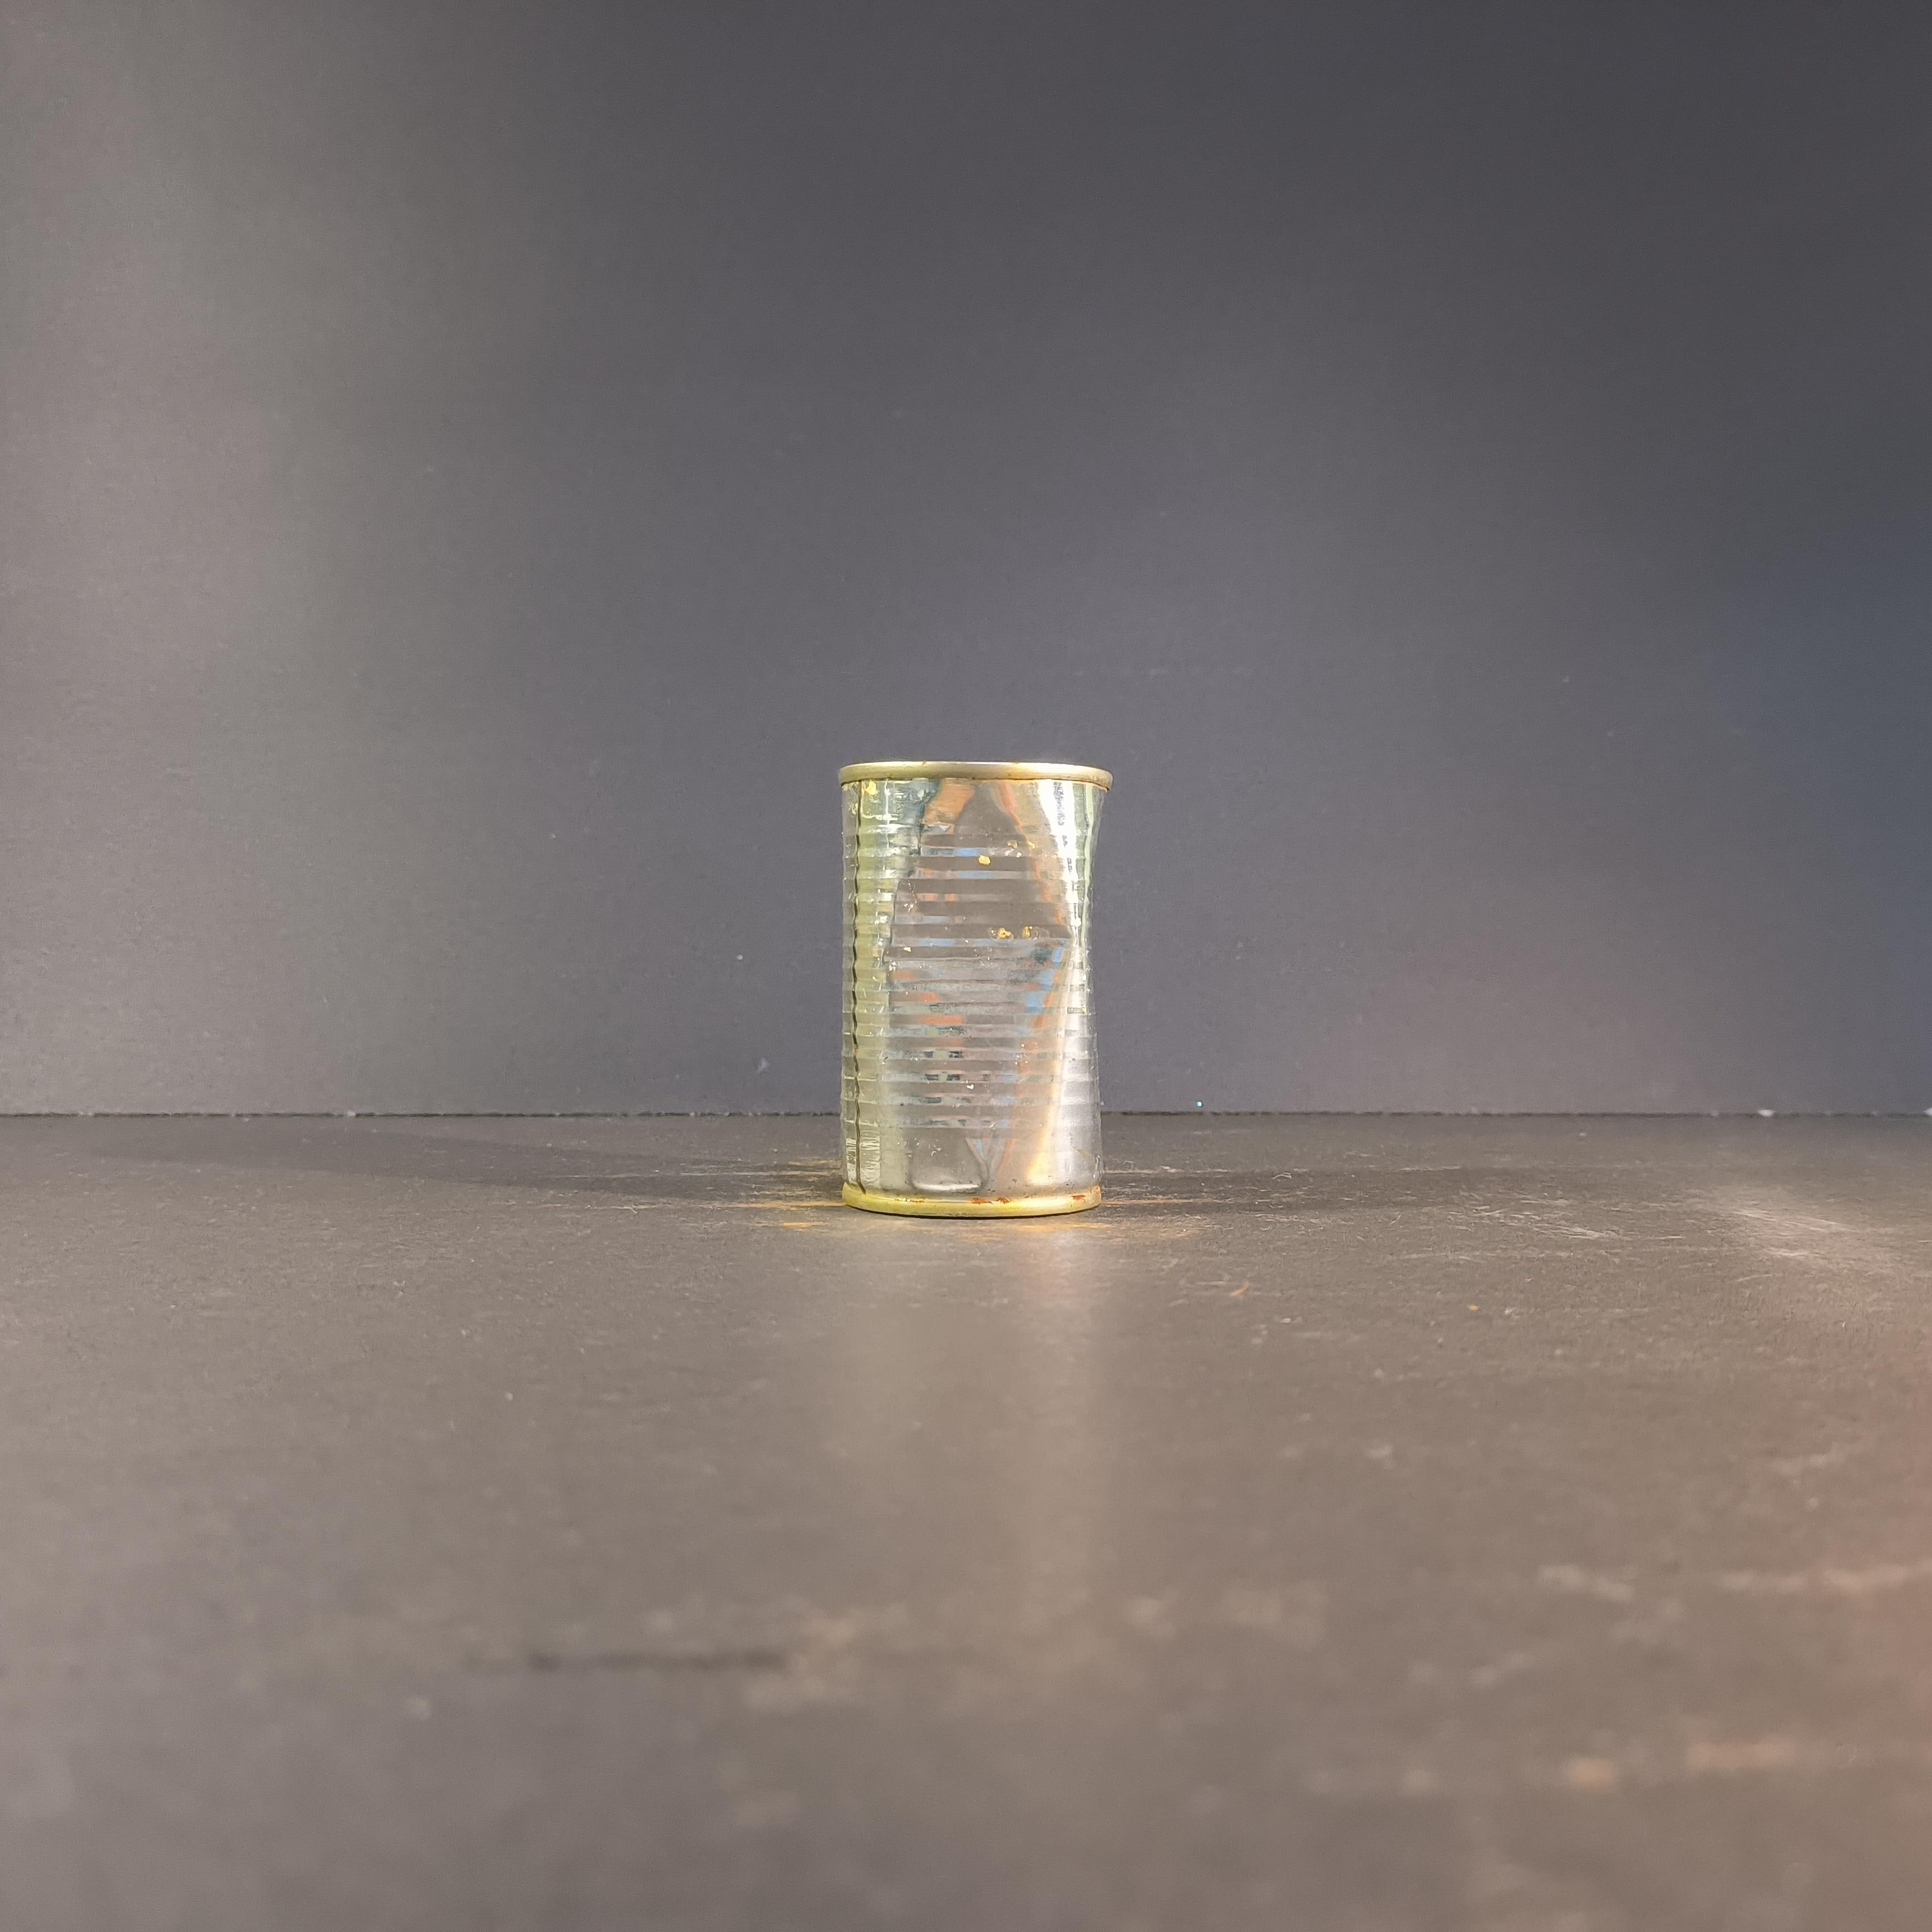Minor Defect: (839, 761, 1113, 1215)
